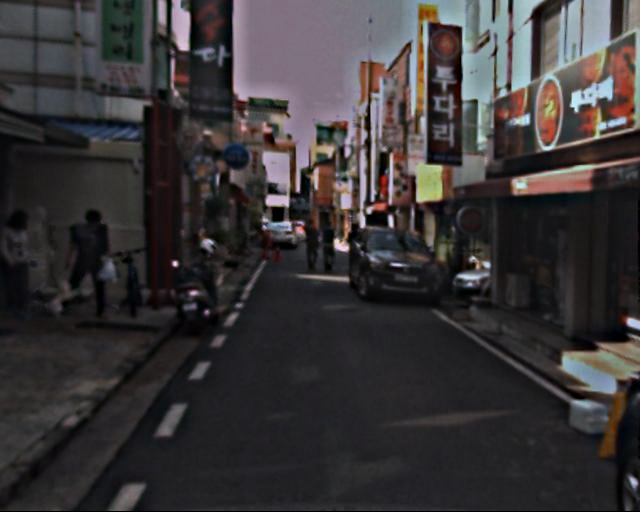person: (71, 209, 123, 316), (4, 208, 54, 313), (319, 218, 343, 276), (301, 218, 324, 274), (343, 222, 365, 276)
